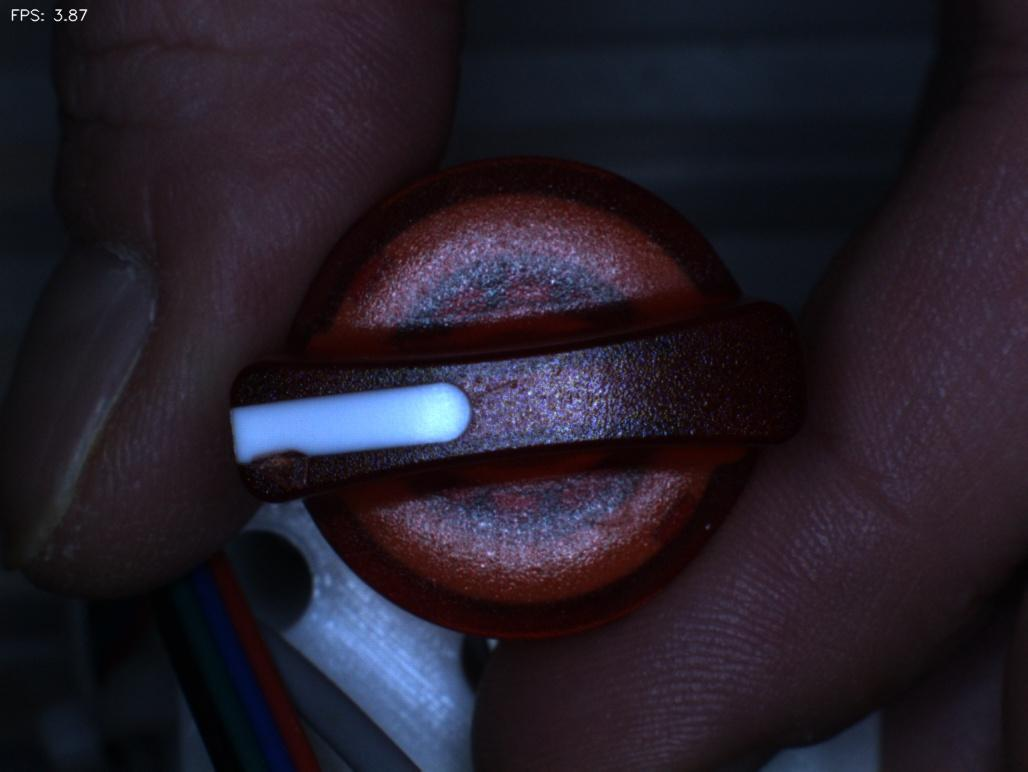Choc: (232, 436, 319, 522)
